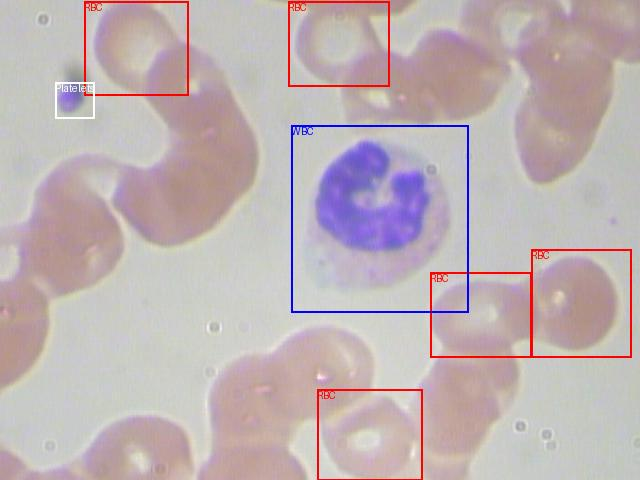Platelets: (55, 82, 94, 118)
RBC: (531, 249, 631, 357), (84, 1, 188, 95), (317, 389, 422, 480), (430, 272, 531, 357), (288, 1, 389, 86)
WBC: (291, 125, 468, 312)
